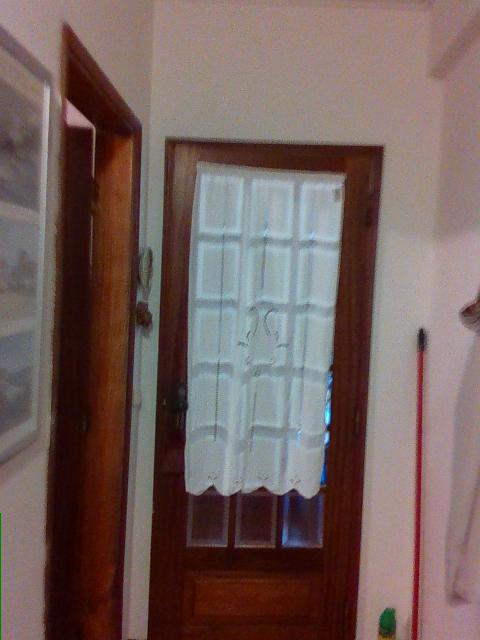door: (149, 137, 387, 637), (44, 17, 143, 640)
